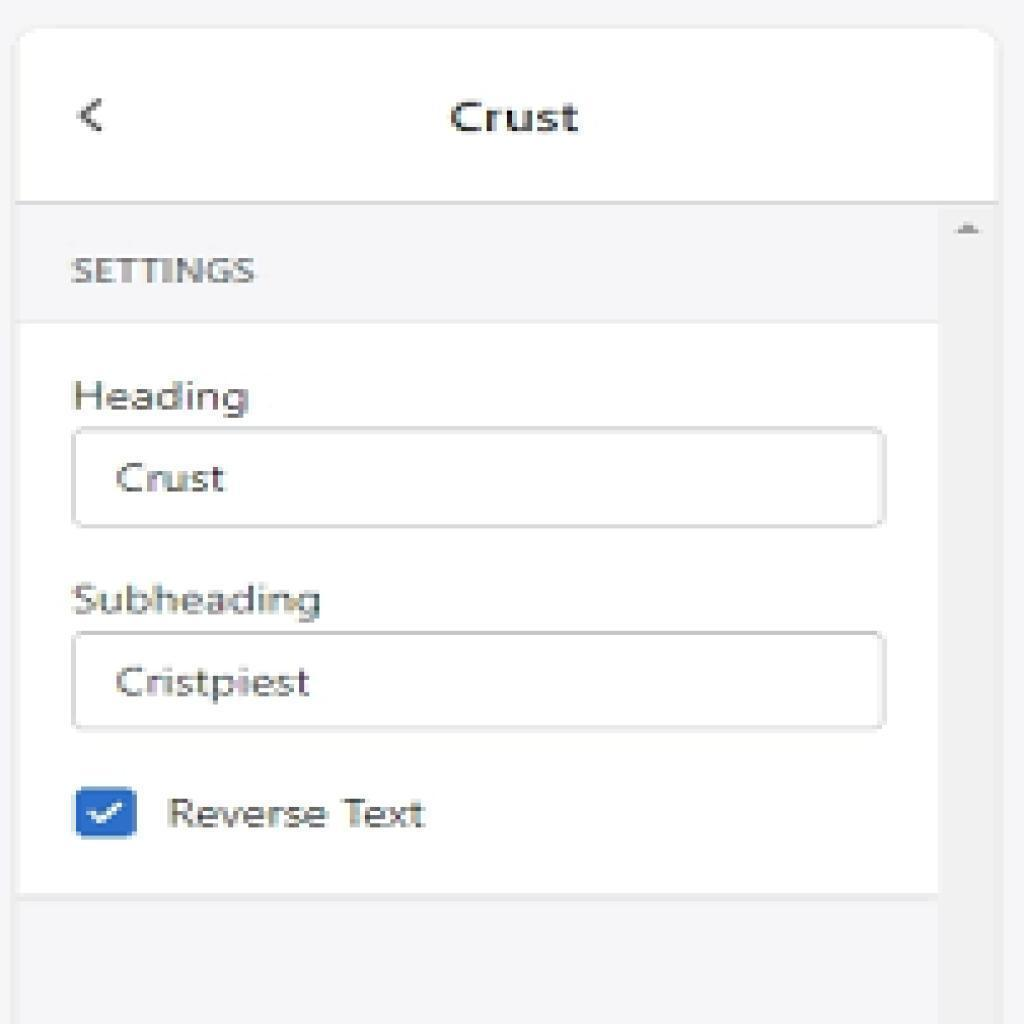checkbox: (74, 786, 139, 841)
icon: (66, 89, 114, 138)
input: (70, 629, 885, 731), (68, 428, 890, 528)
